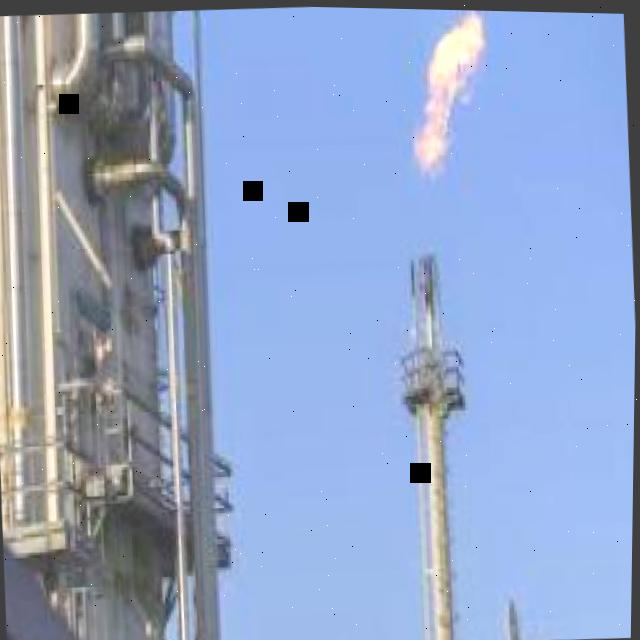fire: (412, 8, 486, 179)
